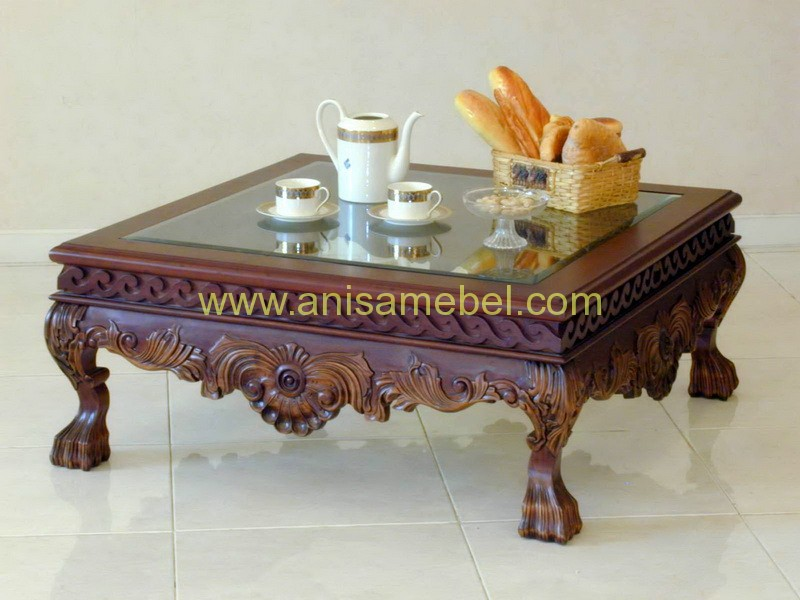Carving Table: (55, 112, 731, 544)
